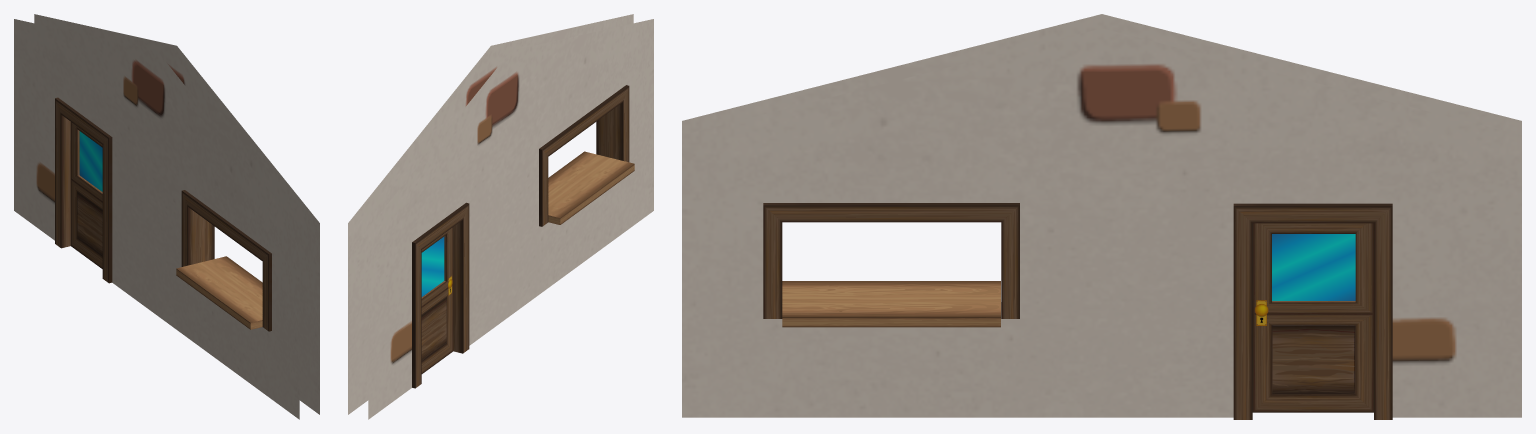
The model's file is House_02_Int_01.FBX.
The picture shows the model from 3 angles, left to right: view 1: azimuth 30°, elevation 25°; view 2: azimuth 150°, elevation 25°; view 3: azimuth 270°, elevation 25°; orthographic projection. The views are drawn at different scales.
Parts seen in each view (by area): view 1: House_02_Int_01, Door; view 2: House_02_Int_01, Door; view 3: House_02_Int_01, Door.
Part boxes in pixels (x1,y1,x2,y2): House_02_Int_01: [14, 14, 319, 419]; Door: [70, 122, 102, 268]; House_02_Int_01: [348, 14, 653, 419]; Door: [421, 227, 453, 373]; House_02_Int_01: [682, 14, 1521, 419]; Door: [1252, 223, 1373, 412].
Bounding box in the file's own units: 0.753 × 3.78 × 7.4.
